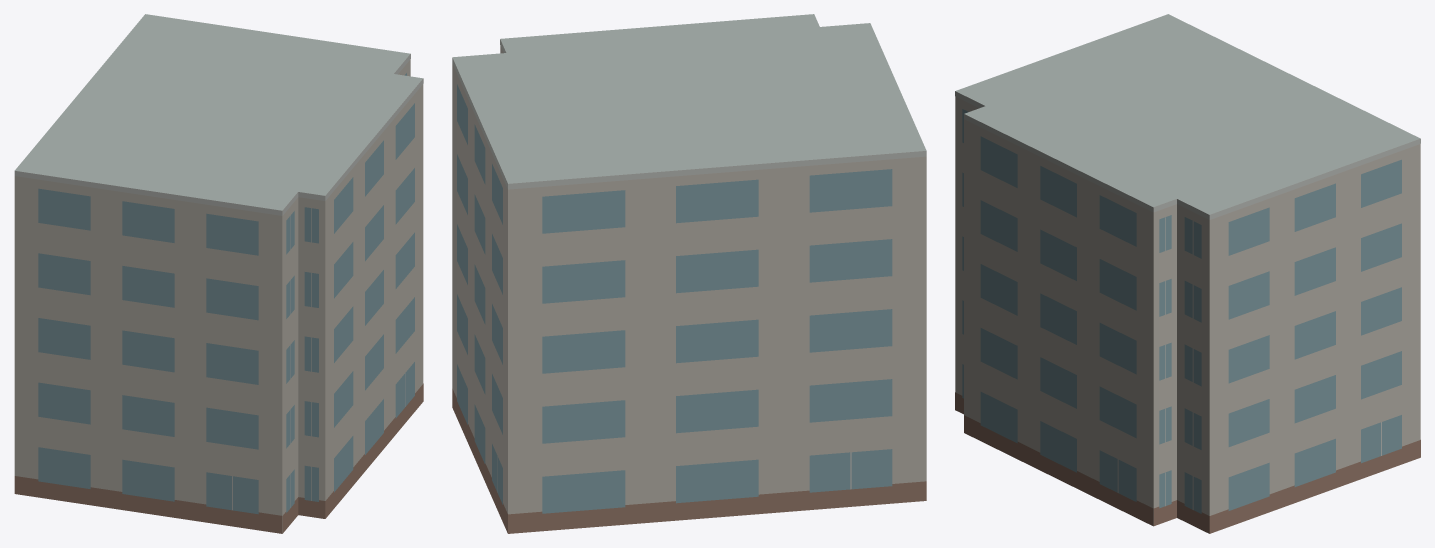
The model's file is survey-upis-32789389.glb.
The picture shows the model from 3 angles, left to right: view 1: azimuth 30°, elevation 25°; view 2: azimuth 150°, elevation 25°; view 3: azimuth 270°, elevation 25°; orthographic projection. The views are drawn at different scales.
Parts seen in each view (by area): view 1: survey-upis-32789389.tmp; view 2: survey-upis-32789389.tmp; view 3: survey-upis-32789389.tmp.
Boxes of the visible parts, x1,y1,x2,y2 form: survey-upis-32789389.tmp: (14,14,423,533); survey-upis-32789389.tmp: (452,14,926,533); survey-upis-32789389.tmp: (955,14,1420,533).
Bounding box in the file's own units: 20.06 × 14.85 × 19.65.
